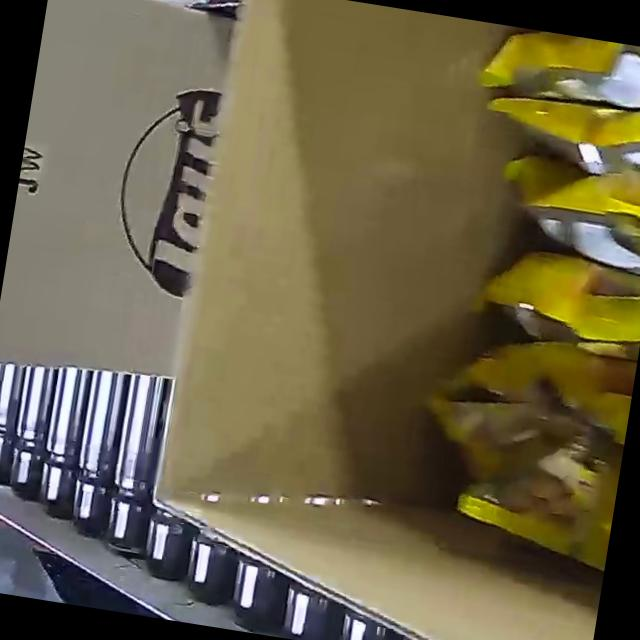salted: (391, 21, 640, 618)
